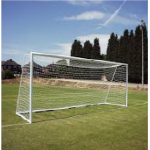goals: (16, 51, 130, 124)
